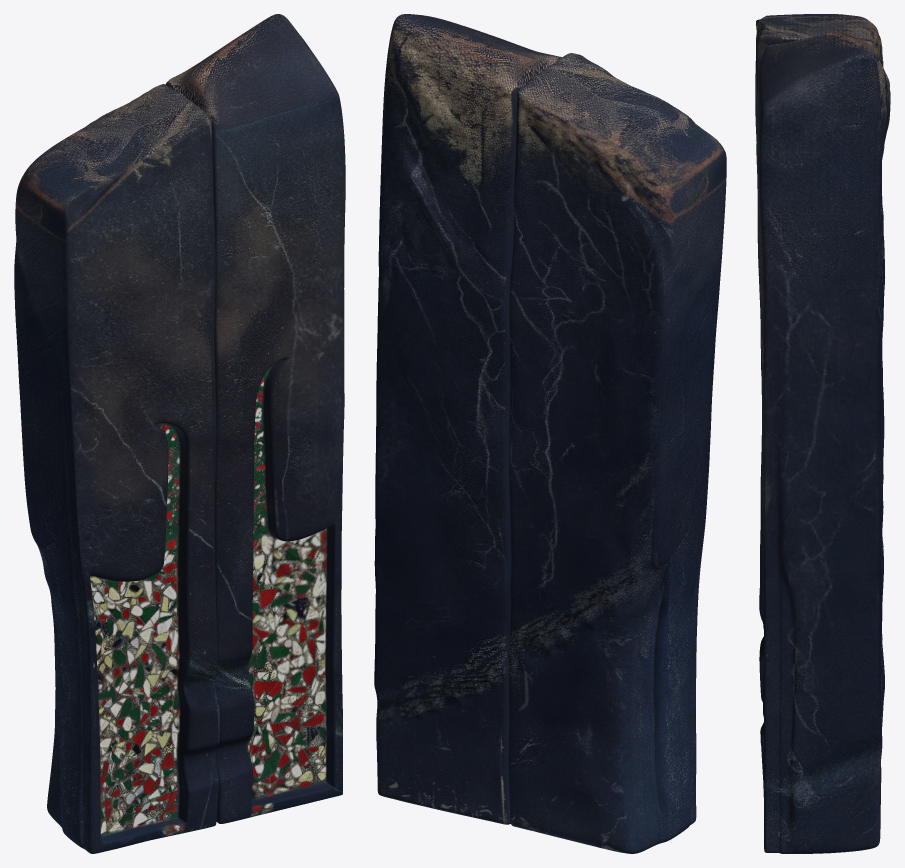
Rendered from inner-beauty-uploaded-v1.glb.
3 views of the same model, side by side, from view 1: azimuth 30°, elevation 25°; view 2: azimuth 150°, elevation 25°; view 3: azimuth 270°, elevation 25° (orthographic). The views are drawn at different scales.
Bounding box in the file's own units: 0.7742 × 1.9 × 0.2953.
1 material, 1 textured.
